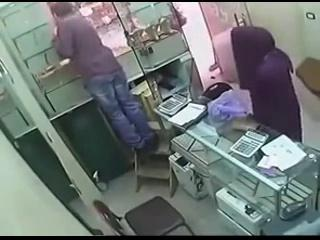Normal: (46, 3, 159, 153)
